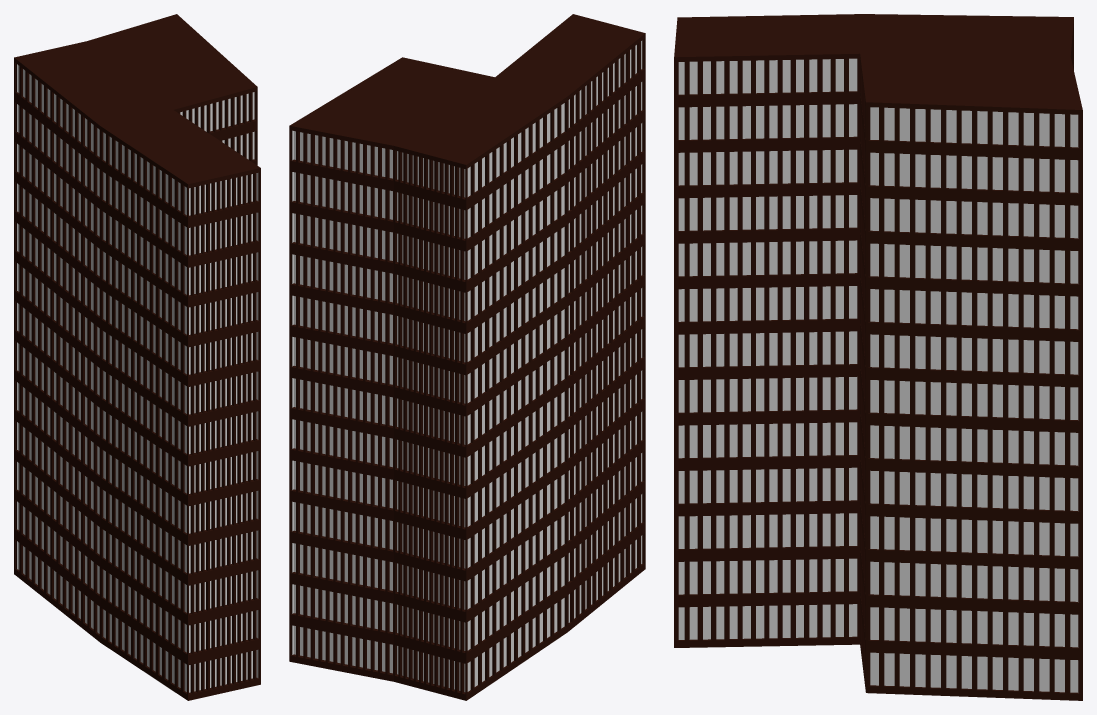
Rendered from 2WestminsterRoad.fbx.
The picture shows the model from 3 angles, left to right: view 1: azimuth 30°, elevation 25°; view 2: azimuth 150°, elevation 25°; view 3: azimuth 270°, elevation 25°; orthographic projection. The views are drawn at different scales.
Visible parts, largest first — view 1: 2WestminsterRoad; view 2: 2WestminsterRoad; view 3: 2WestminsterRoad.
Boxes of the visible parts, x1=… form: 2WestminsterRoad: x1=14, y1=14, x2=260, y2=700; 2WestminsterRoad: x1=289, y1=14, x2=645, y2=700; 2WestminsterRoad: x1=674, y1=14, x2=1082, y2=700.
Bounding box in the file's own units: 1814 × 5200 × 3260.
